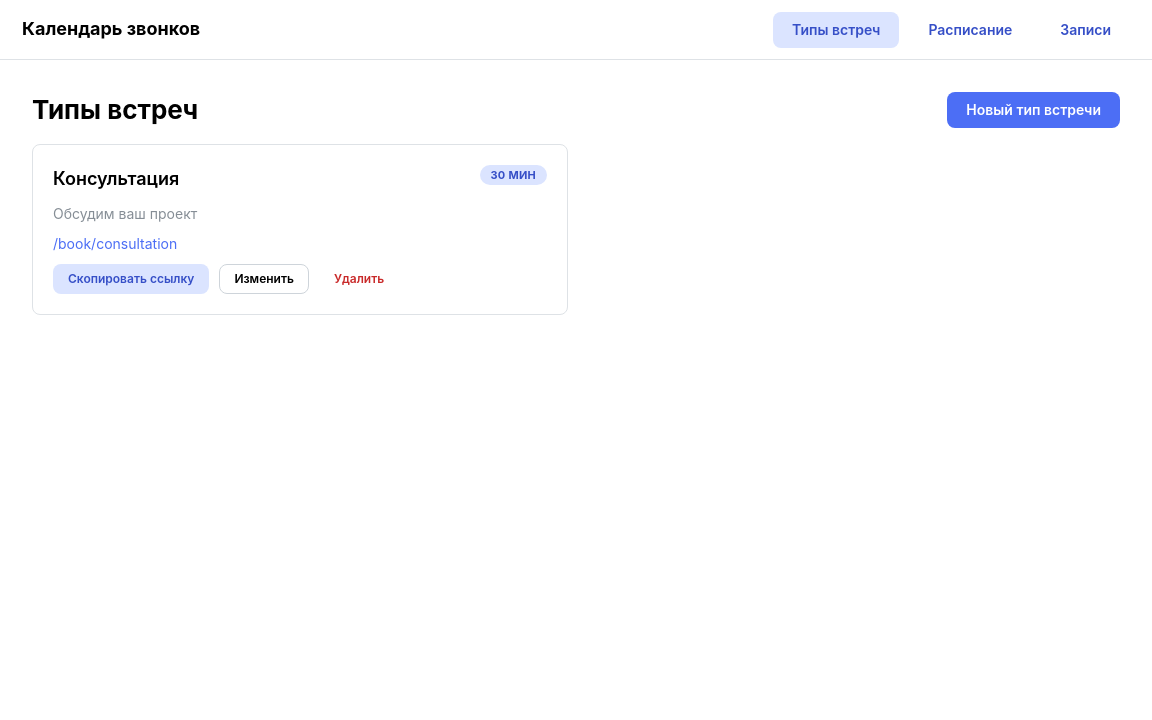
it: EventTypesPage › deletes an event type after confirmation
The image size is (1152, 720).
Click the button "Удалить".
click(359, 279)  # box [319,264,399,294]
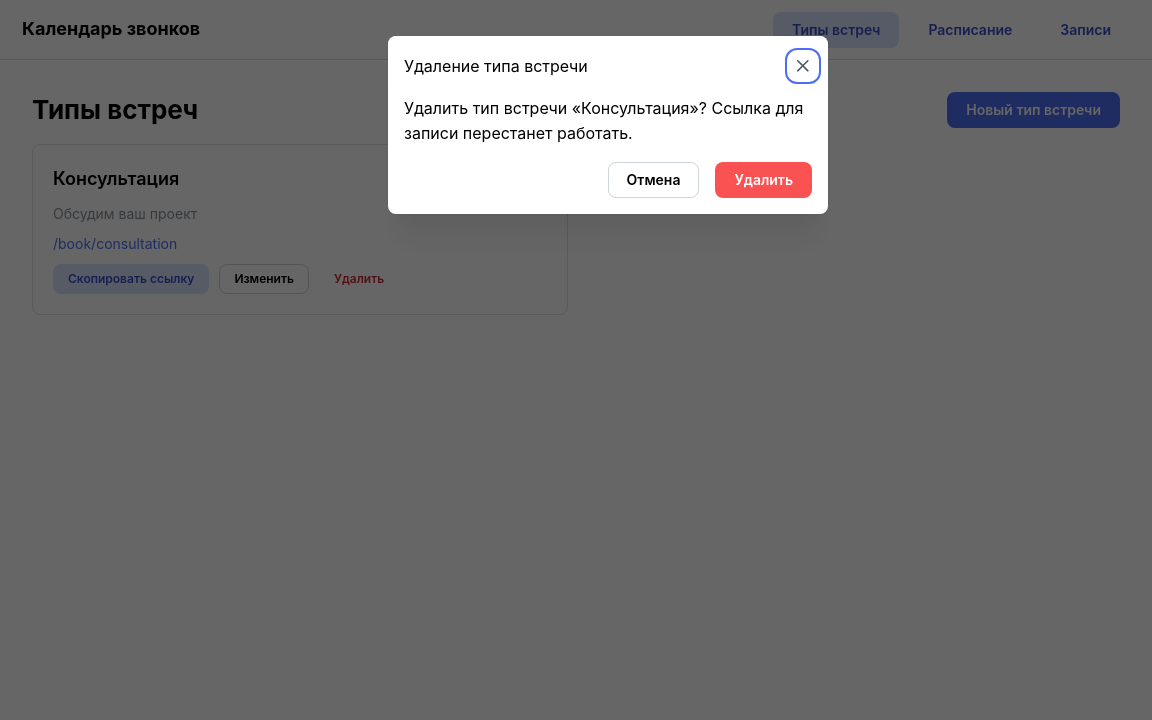
Expected: the text "Консультация" is shown, [581,98,690,118]
Click the button "Удалить".
click(764, 180)  # box [715,162,812,198]
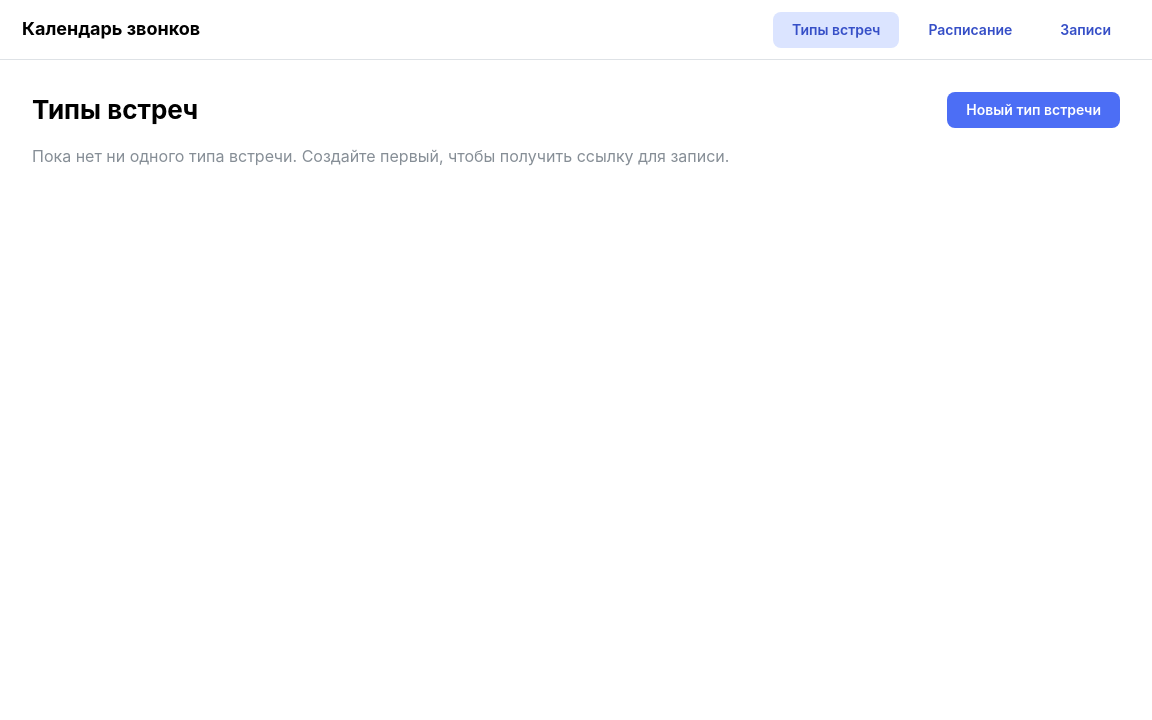
Expected: the text "Пока нет ни одного типа встречи" is shown, [32,146,729,166]
